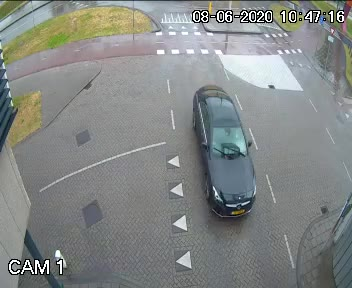car: (184, 73, 263, 239)
